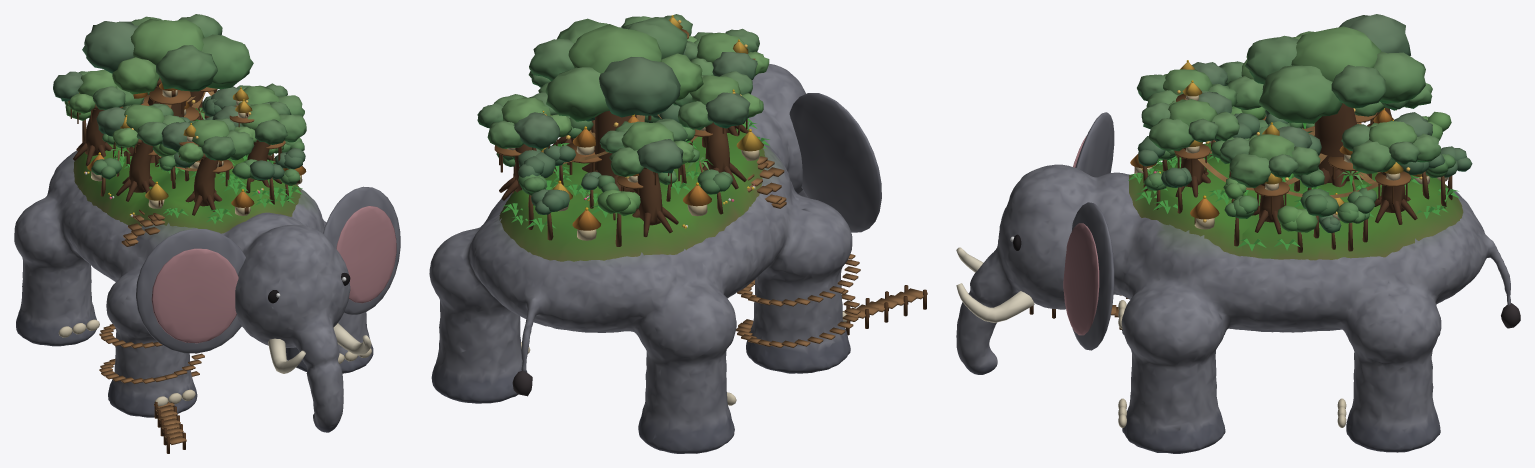
The picture shows the model from 3 angles, left to right: view 1: azimuth 30°, elevation 25°; view 2: azimuth 150°, elevation 25°; view 3: azimuth 270°, elevation 25°; orthographic projection. The views are drawn at different scales.
Parts seen in each view (by area): view 1: BASE, VILLE_4, VILLE_2; view 2: BASE, VILLE_2; view 3: BASE.
Part boxes in pixels (x1,y1,x2,y2): BASE: (14,14,400,453); VILLE_4: (179,99,254,162); VILLE_2: (68,93,199,208); BASE: (429,14,927,453); VILLE_2: (532,111,763,240); BASE: (956,14,1520,453).
Bounding box in the file's own units: 47.09 × 51.65 × 74.97.
